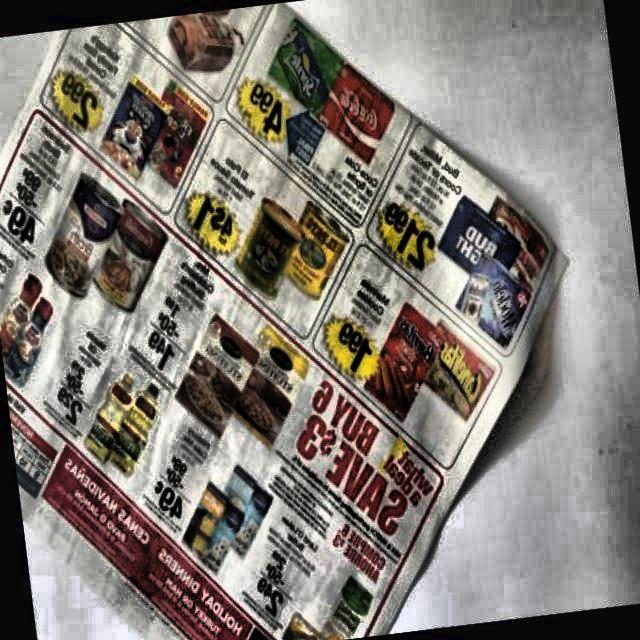cardboard: (0, 4, 568, 640)
